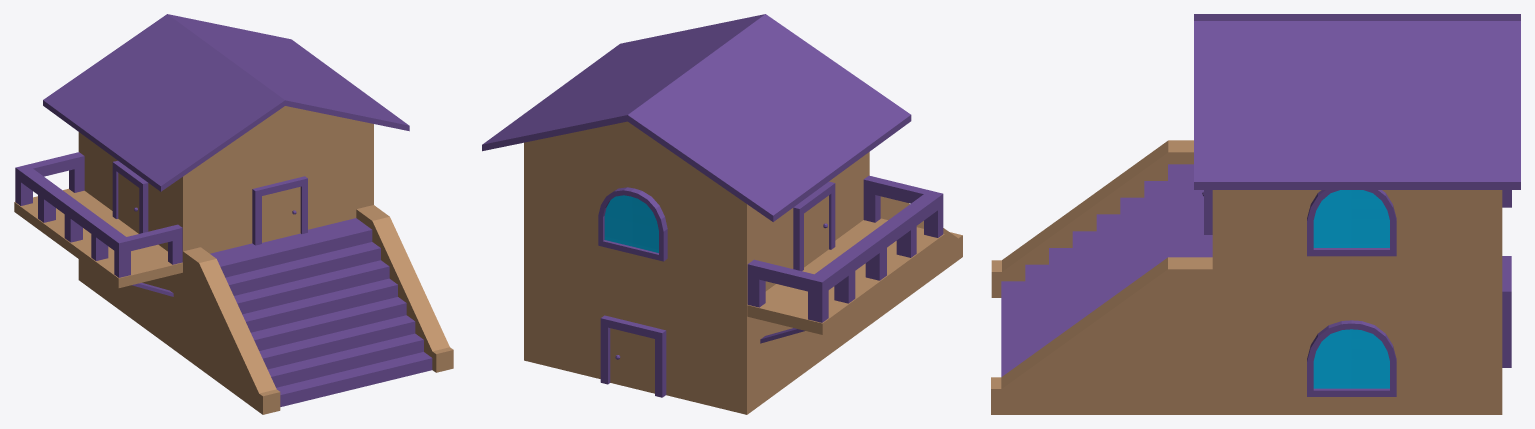
Rendered from CajaCasa 1.5.fbx.
3 views of the same model, side by side, from view 1: azimuth 30°, elevation 25°; view 2: azimuth 150°, elevation 25°; view 3: azimuth 270°, elevation 25° (orthographic). The views are drawn at different scales.
Parts seen in each view (by area): view 1: Balcony 5.4; view 2: Balcony 5.4; view 3: Balcony 5.4.
Boxes of the visible parts, x1=… form: Balcony 5.4: x1=14, y1=14, x2=453, y2=414; Balcony 5.4: x1=482, y1=14, x2=962, y2=414; Balcony 5.4: x1=991, y1=14, x2=1520, y2=414.
Size of the model in its own units: 1805 by 1444 by 2103.
